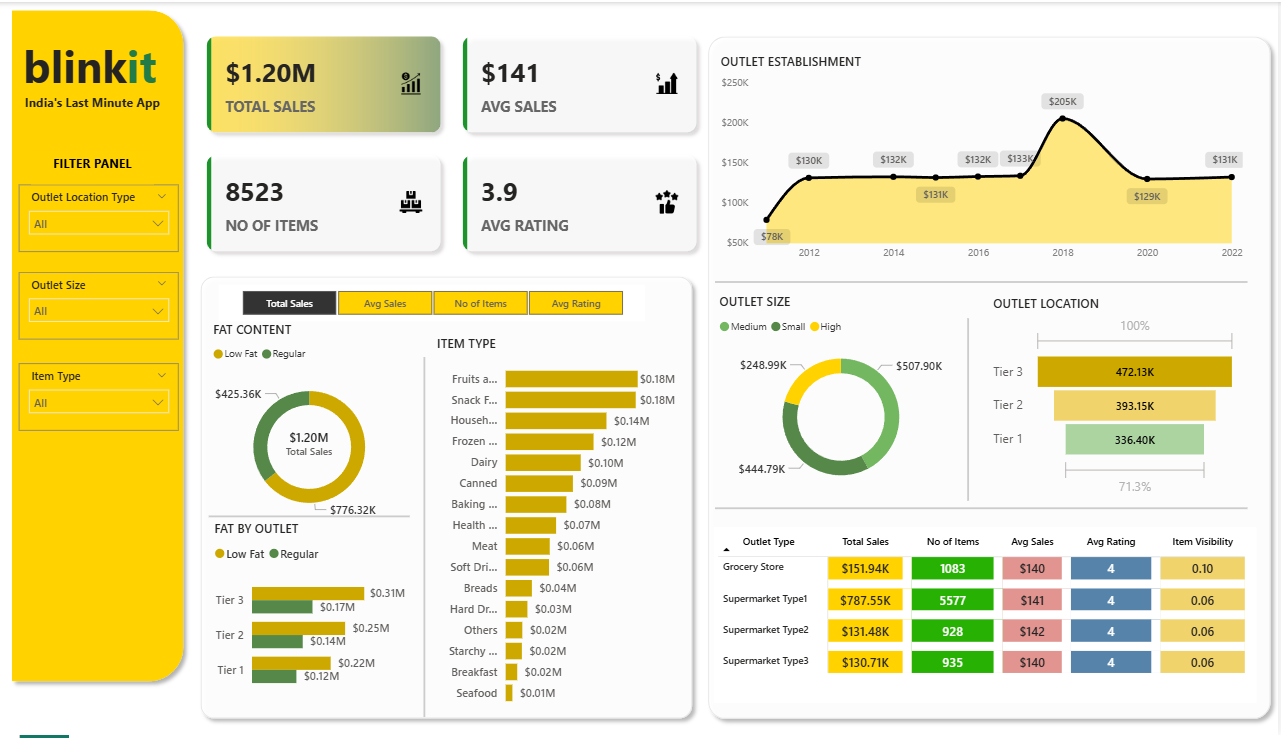

The page's visual inventory and layout, read from the dashboard file:
{"tool":"powerbi","page":{"name":"Page 1","canvas":[1400,800],"ordinal":0},"visuals":[{"type":"shape","box":[10,0,205,750],"z":0},{"type":"textbox","box":[25.9,31.4,174.5,94.1],"z":1000},{"type":"textbox","box":[19.1,95.4,174.5,30],"z":2000},{"type":"cardVisual","fields":{"Data":["BlinkIT Grocery Data.Total Sales","BlinkIT Grocery Data.Avg Sales","BlinkIT Grocery Data.No of Items","BlinkIT Grocery Data.Avg Rating"]},"box":[214,20.5,569.9,269.9],"z":3000},{"type":"shape","box":[215.4,290.4,554,500],"z":4000},{"type":"donutChart","title":"FAT CONTENT","fields":{"Y":["BlinkIT Grocery Data.Total Sales"],"Category":["BlinkIT Grocery Data.Item Fat Content"]},"box":[233.1,347.7,219.5,230.4],"z":5000},{"type":"slicer","fields":{"Values":["Metrics.Metrics"]},"box":[244,308.1,465,40],"z":6000},{"type":"cardVisual","fields":{"Data":["BlinkIT Grocery Data.Total Sales"]},"box":[260.4,432.2,165,96.8],"z":7000},{"type":"clusteredBarChart","title":"FAT BY OUTLET","fields":{"Y":["BlinkIT Grocery Data.Total Sales"],"Category":["BlinkIT Grocery Data.Outlet Location Type"],"Series":["BlinkIT Grocery Data.Item Fat Content"]},"box":[234.5,564.4,218.1,200.4],"z":8000},{"type":"shape","box":[233.1,552.2,219.5,17.7],"z":9000},{"type":"shape","box":[444.4,387.2,47.7,392.6],"z":10000},{"type":"barChart","title":"ITEM TYPE","fields":{"Y":["BlinkIT Grocery Data.Total Sales"],"Category":["BlinkIT Grocery Data.Item Type"]},"box":[477.2,362.6,269.9,414.5],"z":11000},{"type":"shape","box":[768.9,28.6,631.2,762.1],"z":12000},{"type":"lineChart","title":"OUTLET ESTABLISHMENT","fields":{"Category":["BlinkIT Grocery Data.Outlet Establishment Year"],"Y":["BlinkIT Grocery Data.Total Sales"]},"box":[786.6,55.9,579.4,234.5],"z":13000},{"type":"shape","box":[785.3,282.2,580.8,46.4],"z":14000},{"type":"donutChart","title":"OUTLET SIZE","fields":{"Y":["BlinkIT Grocery Data.Total Sales"],"Category":["BlinkIT Grocery Data.Outlet Size"]},"box":[785,317.7,275,225],"z":15000},{"type":"shape","box":[1037.5,344.9,47.7,199],"z":16000},{"type":"funnel","title":"OUTLET LOCATION","fields":{"Y":["Sum(BlinkIT Grocery Data.Sales)"],"Category":["BlinkIT Grocery Data.Outlet Location Type"]},"box":[1083.9,319,275.4,225],"z":17000},{"type":"shape","box":[785.3,529,580.8,46.4],"z":18000},{"type":"pivotTable","fields":{"Rows":["BlinkIT Grocery Data.Outlet Type"],"Values":["BlinkIT Grocery Data.Total Sales","BlinkIT Grocery Data.No of Items","BlinkIT Grocery Data.Avg Sales","BlinkIT Grocery Data.Avg Rating","Avg(BlinkIT Grocery Data.Item Visibility)"]},"box":[783.9,572.6,591.7,192.2],"z":19000},{"type":"slicer","fields":{"Values":["BlinkIT Grocery Data.Outlet Location Type"]},"box":[25.9,199,174.5,73.6],"z":20000},{"type":"slicer","fields":{"Values":["BlinkIT Grocery Data.Outlet Size"]},"box":[25.9,294.5,174.5,73.6],"z":21000},{"type":"slicer","fields":{"Values":["BlinkIT Grocery Data.Item Type"]},"box":[25.9,394,174.5,73.6],"z":22000},{"type":"textbox","box":[39.5,162.2,133.6,36.8],"z":23000}]}

Visuals, with their boxes in screenshot pixels (x1, y1, x2, y2), scaled from the page's 1400x800 canvas onto the 1281x738 screenshot:
shape: {"left": 9, "top": 0, "right": 197, "bottom": 692}
textbox: {"left": 24, "top": 29, "right": 183, "bottom": 116}
textbox: {"left": 17, "top": 88, "right": 177, "bottom": 116}
cardVisual - BlinkIT Grocery Data.Total Sales x BlinkIT Grocery Data.Avg Sales: {"left": 196, "top": 19, "right": 717, "bottom": 268}
shape: {"left": 197, "top": 268, "right": 704, "bottom": 729}
"FAT CONTENT" donutChart: {"left": 213, "top": 321, "right": 414, "bottom": 533}
slicer - Metrics.Metrics: {"left": 223, "top": 284, "right": 649, "bottom": 321}
cardVisual - BlinkIT Grocery Data.Total Sales: {"left": 238, "top": 399, "right": 389, "bottom": 488}
"FAT BY OUTLET" clusteredBarChart: {"left": 215, "top": 521, "right": 414, "bottom": 706}
shape: {"left": 213, "top": 509, "right": 414, "bottom": 526}
shape: {"left": 407, "top": 357, "right": 450, "bottom": 719}
"ITEM TYPE" barChart: {"left": 437, "top": 334, "right": 684, "bottom": 717}
shape: {"left": 704, "top": 26, "right": 1280, "bottom": 729}
"OUTLET ESTABLISHMENT" lineChart: {"left": 720, "top": 52, "right": 1250, "bottom": 268}
shape: {"left": 719, "top": 260, "right": 1250, "bottom": 303}
"OUTLET SIZE" donutChart: {"left": 718, "top": 293, "right": 970, "bottom": 501}
shape: {"left": 949, "top": 318, "right": 993, "bottom": 502}
"OUTLET LOCATION" funnel: {"left": 992, "top": 294, "right": 1244, "bottom": 502}
shape: {"left": 719, "top": 488, "right": 1250, "bottom": 531}
pivotTable - BlinkIT Grocery Data.Outlet Type x BlinkIT Grocery Data.Total Sales: {"left": 717, "top": 528, "right": 1259, "bottom": 706}
slicer - BlinkIT Grocery Data.Outlet Location Type: {"left": 24, "top": 184, "right": 183, "bottom": 251}
slicer - BlinkIT Grocery Data.Outlet Size: {"left": 24, "top": 272, "right": 183, "bottom": 340}
slicer - BlinkIT Grocery Data.Item Type: {"left": 24, "top": 363, "right": 183, "bottom": 431}
textbox: {"left": 36, "top": 150, "right": 158, "bottom": 184}
